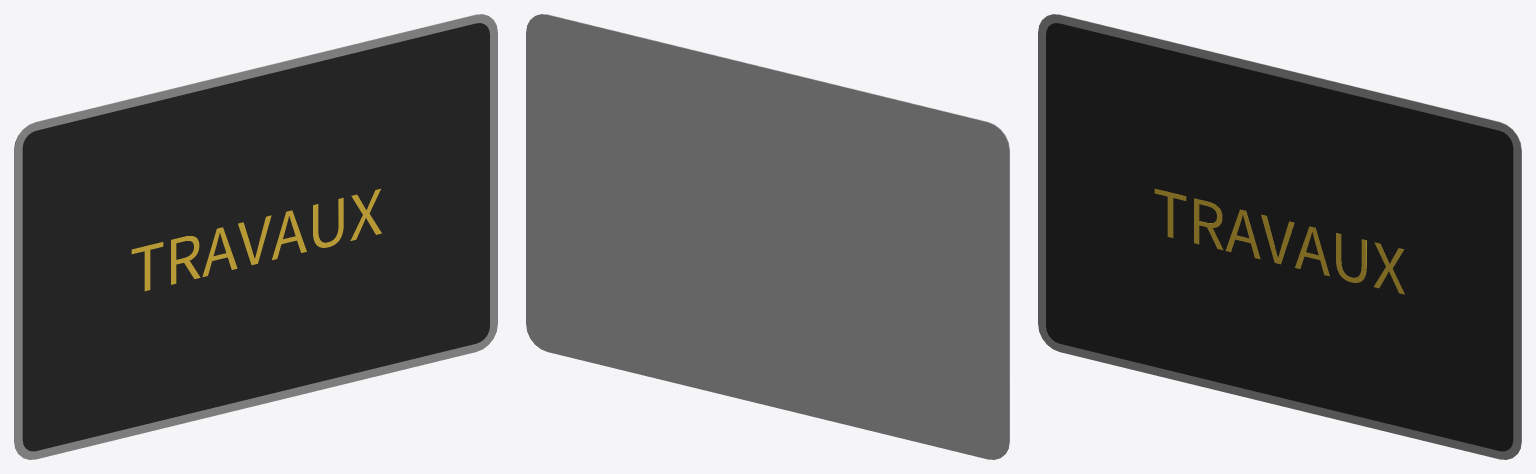
Rendered from XAK5.glb.
The picture shows the model from 3 angles, left to right: view 1: azimuth 30°, elevation 25°; view 2: azimuth 150°, elevation 25°; view 3: azimuth 330°, elevation 25°; orthographic projection.
Parts seen in each view (by area): view 1: XAK5_r01, XAK5_r00, XAK5_txt02, XAK5_dos; view 2: XAK5_dos, XAK5_r00; view 3: XAK5_r01, XAK5_r00, XAK5_txt02, XAK5_dos.
Boxes of the visible parts, bbox=[...] form: XAK5_r01: bbox=[22, 23, 489, 451]; XAK5_r00: bbox=[14, 14, 497, 459]; XAK5_txt02: bbox=[131, 188, 381, 291]; XAK5_dos: bbox=[14, 14, 487, 452]; XAK5_dos: bbox=[526, 14, 1009, 459]; XAK5_r00: bbox=[542, 14, 1009, 448]; XAK5_r01: bbox=[1046, 23, 1513, 451]; XAK5_r00: bbox=[1038, 14, 1521, 459]; XAK5_txt02: bbox=[1154, 188, 1404, 294]; XAK5_dos: bbox=[1048, 14, 1521, 452].
Bounding box in the file's own units: 0.9 × 0.6 × 0.0025.
